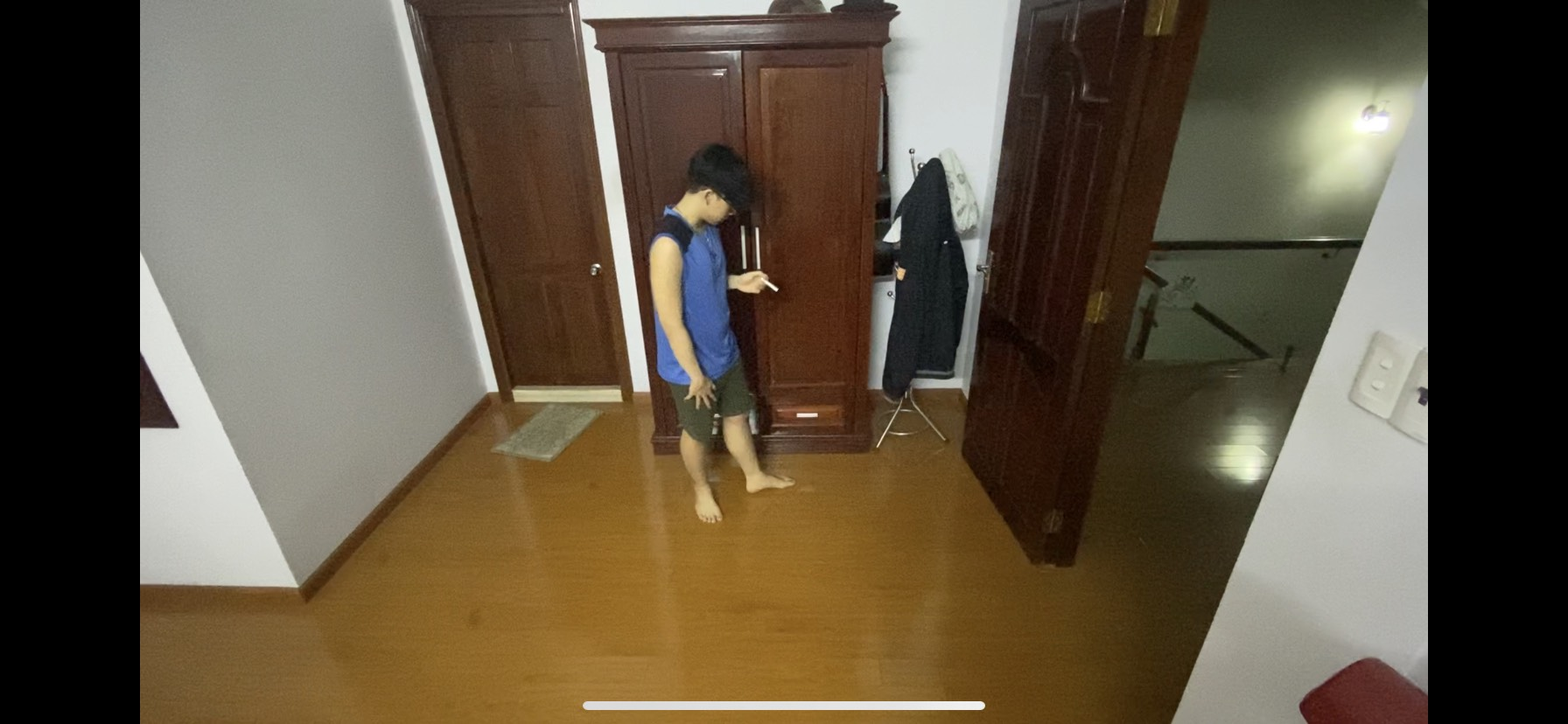cigarette: (762, 278, 779, 293)
person: (631, 128, 808, 533)
